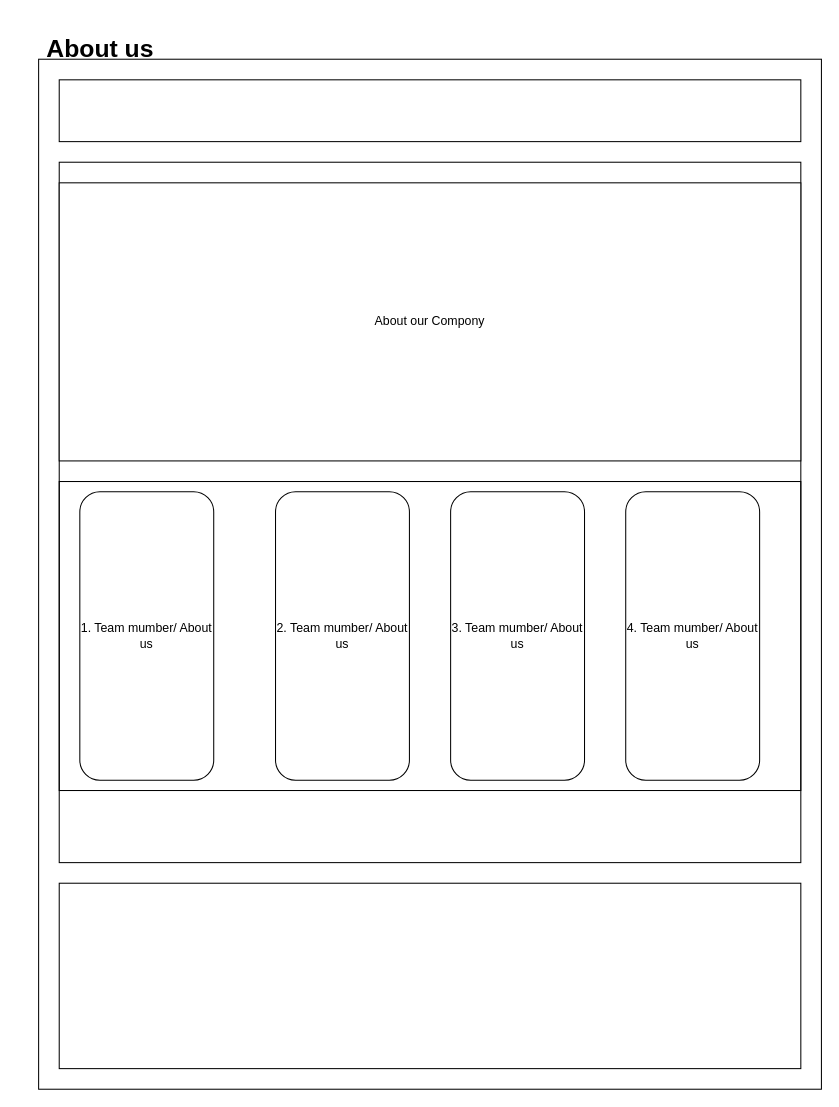
The diagram is 839 pixels wide and 1107 high, and some of its shapes have lost their labels. Each missing label, with the box of its shape:
Footer: (58, 882, 801, 1069)
Header: (58, 79, 801, 142)
